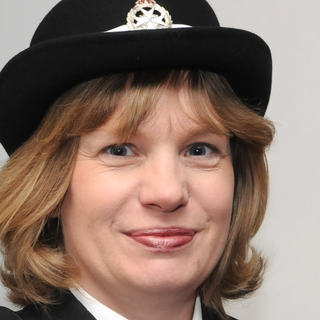eye: (96, 139, 144, 164), (179, 139, 225, 164)
